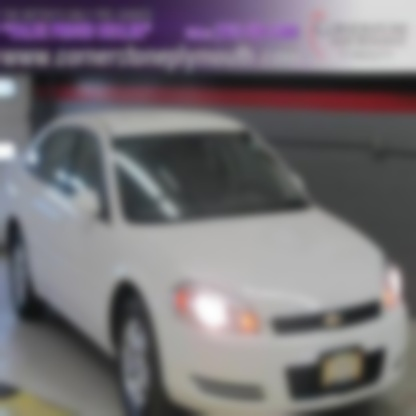Vehicle: (1, 107, 412, 415)
